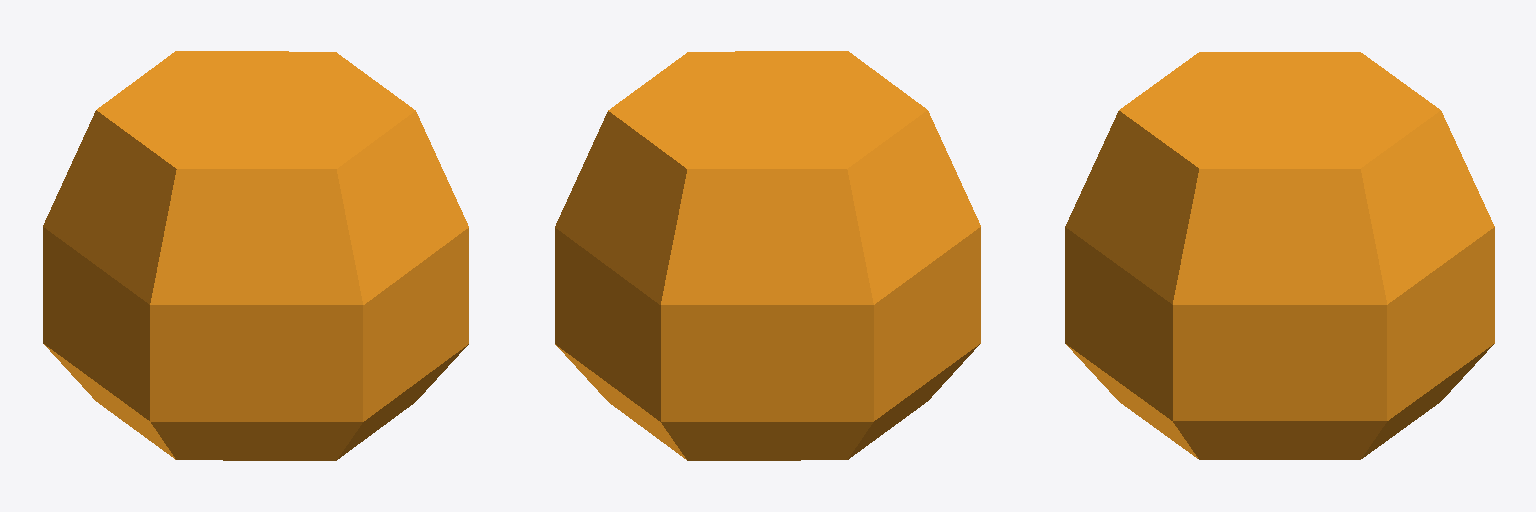
The model's file is gems_topaz_original.obj.
3 views of the same model, side by side, from view 1: azimuth 30°, elevation 25°; view 2: azimuth 150°, elevation 25°; view 3: azimuth 270°, elevation 25° (orthographic).
Visible parts, largest first — view 1: mergedBlocks; view 2: mergedBlocks; view 3: mergedBlocks.
Boxes of the visible parts, x1=… form: mergedBlocks: x1=43, y1=51, x2=468, y2=460; mergedBlocks: x1=555, y1=51, x2=980, y2=460; mergedBlocks: x1=1065, y1=52, x2=1494, y2=459.
Bounding box in the file's own units: 0.8019 × 0.7 × 0.9353.